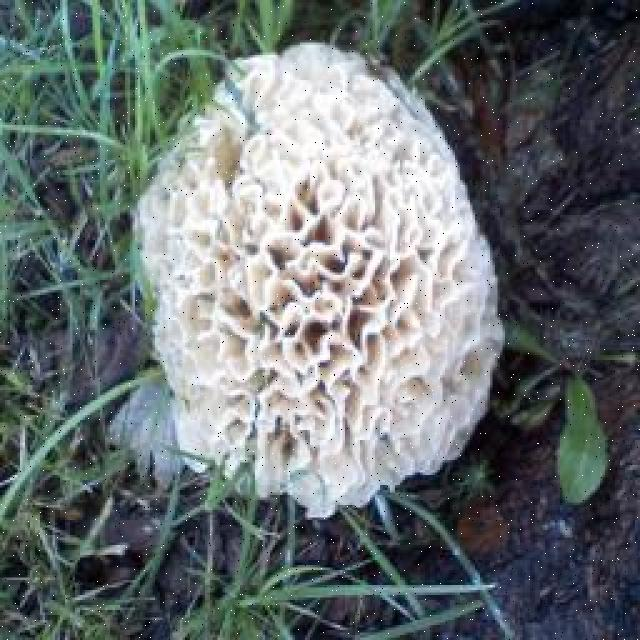aquatic plants: (497, 326, 638, 503)
reefs: (132, 44, 507, 521)
